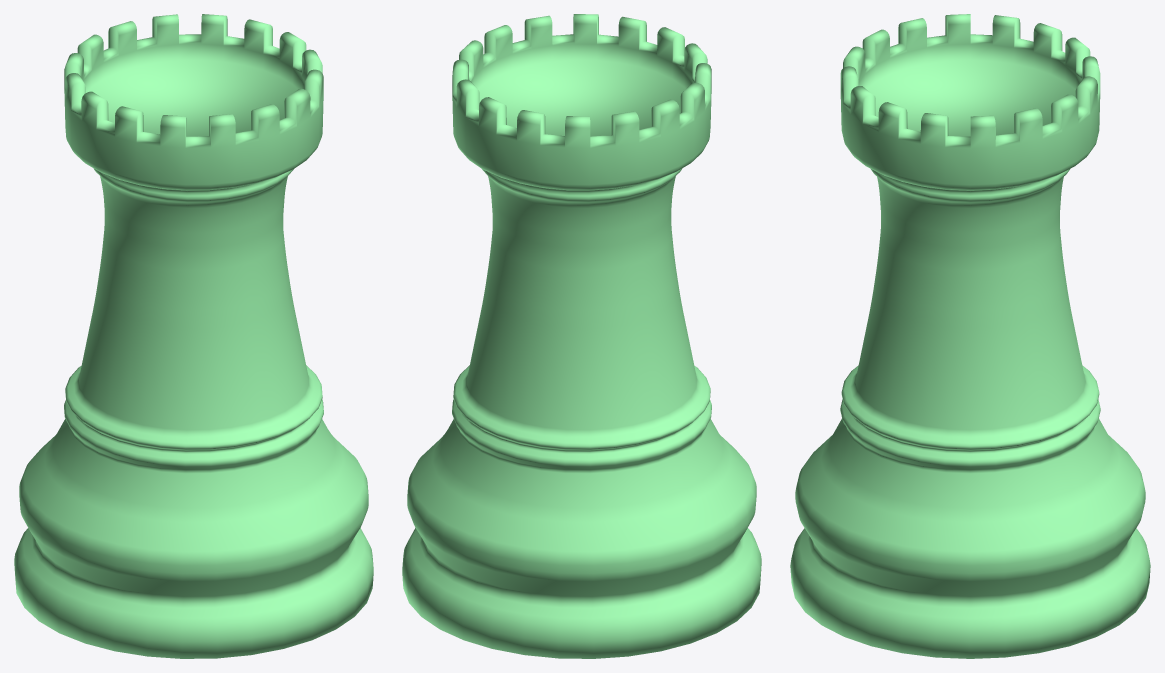
The model's file is dark_rock_1.fbx.
The picture shows the model from 3 angles, left to right: view 1: azimuth 30°, elevation 25°; view 2: azimuth 150°, elevation 25°; view 3: azimuth 270°, elevation 25°; orthographic projection.
Parts seen in each view (by area): view 1: Dark Rock1; view 2: Dark Rock1; view 3: Dark Rock1.
Part boxes in pixels (x1=…): Dark Rock1: x1=14, y1=14, x2=373, y2=658; Dark Rock1: x1=402, y1=14, x2=761, y2=658; Dark Rock1: x1=790, y1=14, x2=1150, y2=658.
Bounding box in the file's own units: 90.92 × 144 × 90.92.
